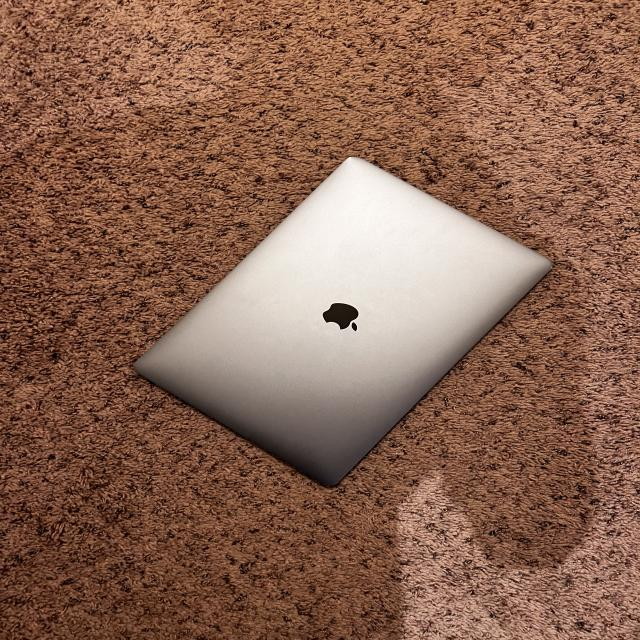laptop: (131, 154, 552, 487)
